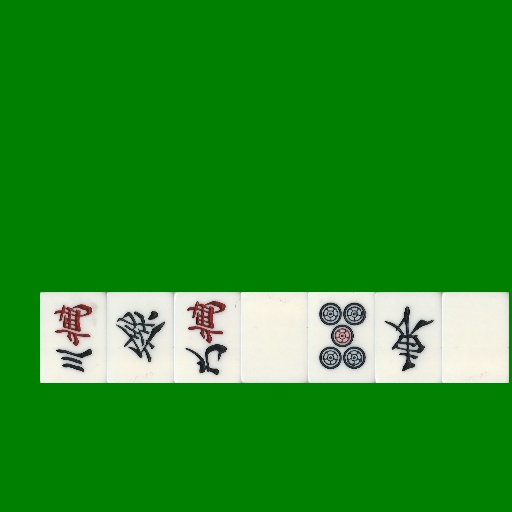3m: (40, 292, 107, 383)
5p: (308, 292, 375, 383)
9m: (174, 292, 241, 383)
east: (375, 292, 442, 383)
hatsu: (107, 292, 174, 383)
white: (241, 292, 308, 383), (442, 292, 509, 383)
